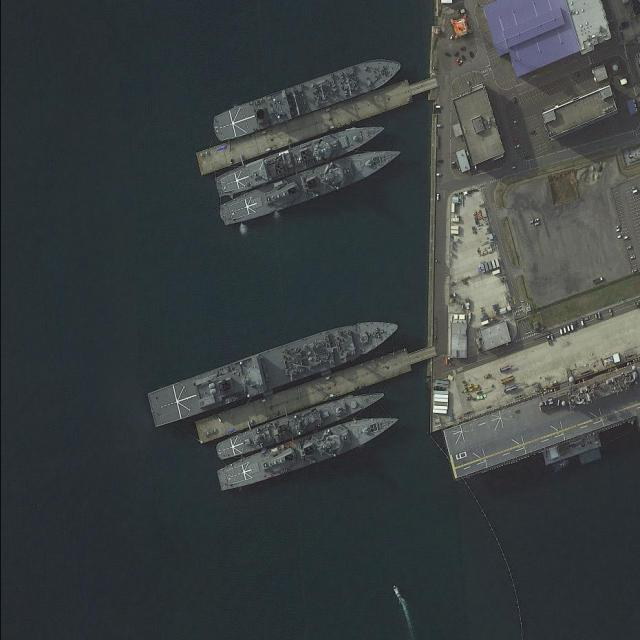Auxiliary Ships: (143, 310, 403, 425), (209, 52, 405, 142)
Destroyer: (213, 403, 405, 496), (216, 140, 407, 231), (214, 116, 389, 200), (213, 383, 388, 464)
Dock: (191, 70, 435, 177), (193, 342, 434, 441)
